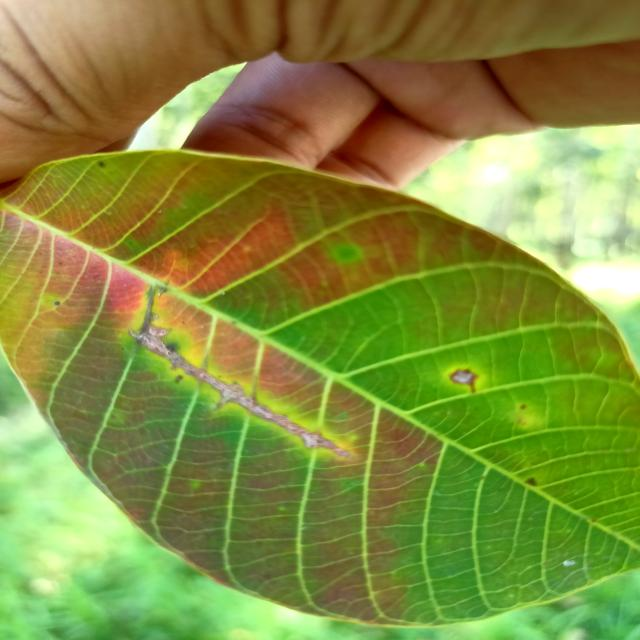Colletotrichum: (450, 370, 476, 385)
